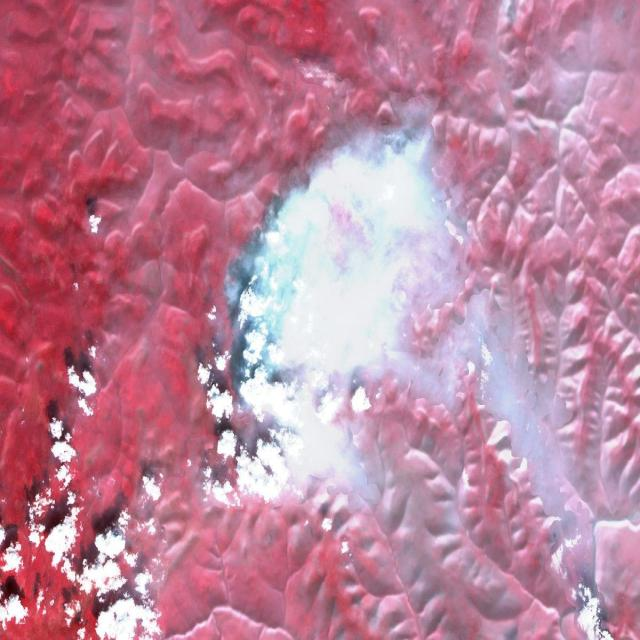fire: (228, 183, 440, 419)
